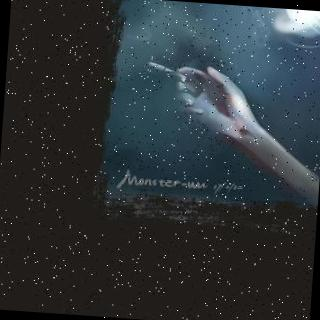smoke: (265, 7, 320, 50)
